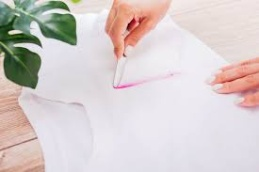lipstick: (111, 78, 182, 92)
